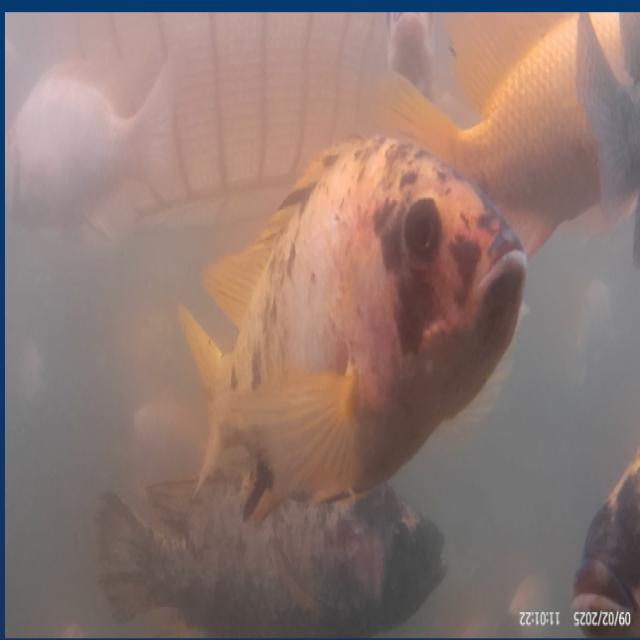ikan: (206, 112, 543, 483)
